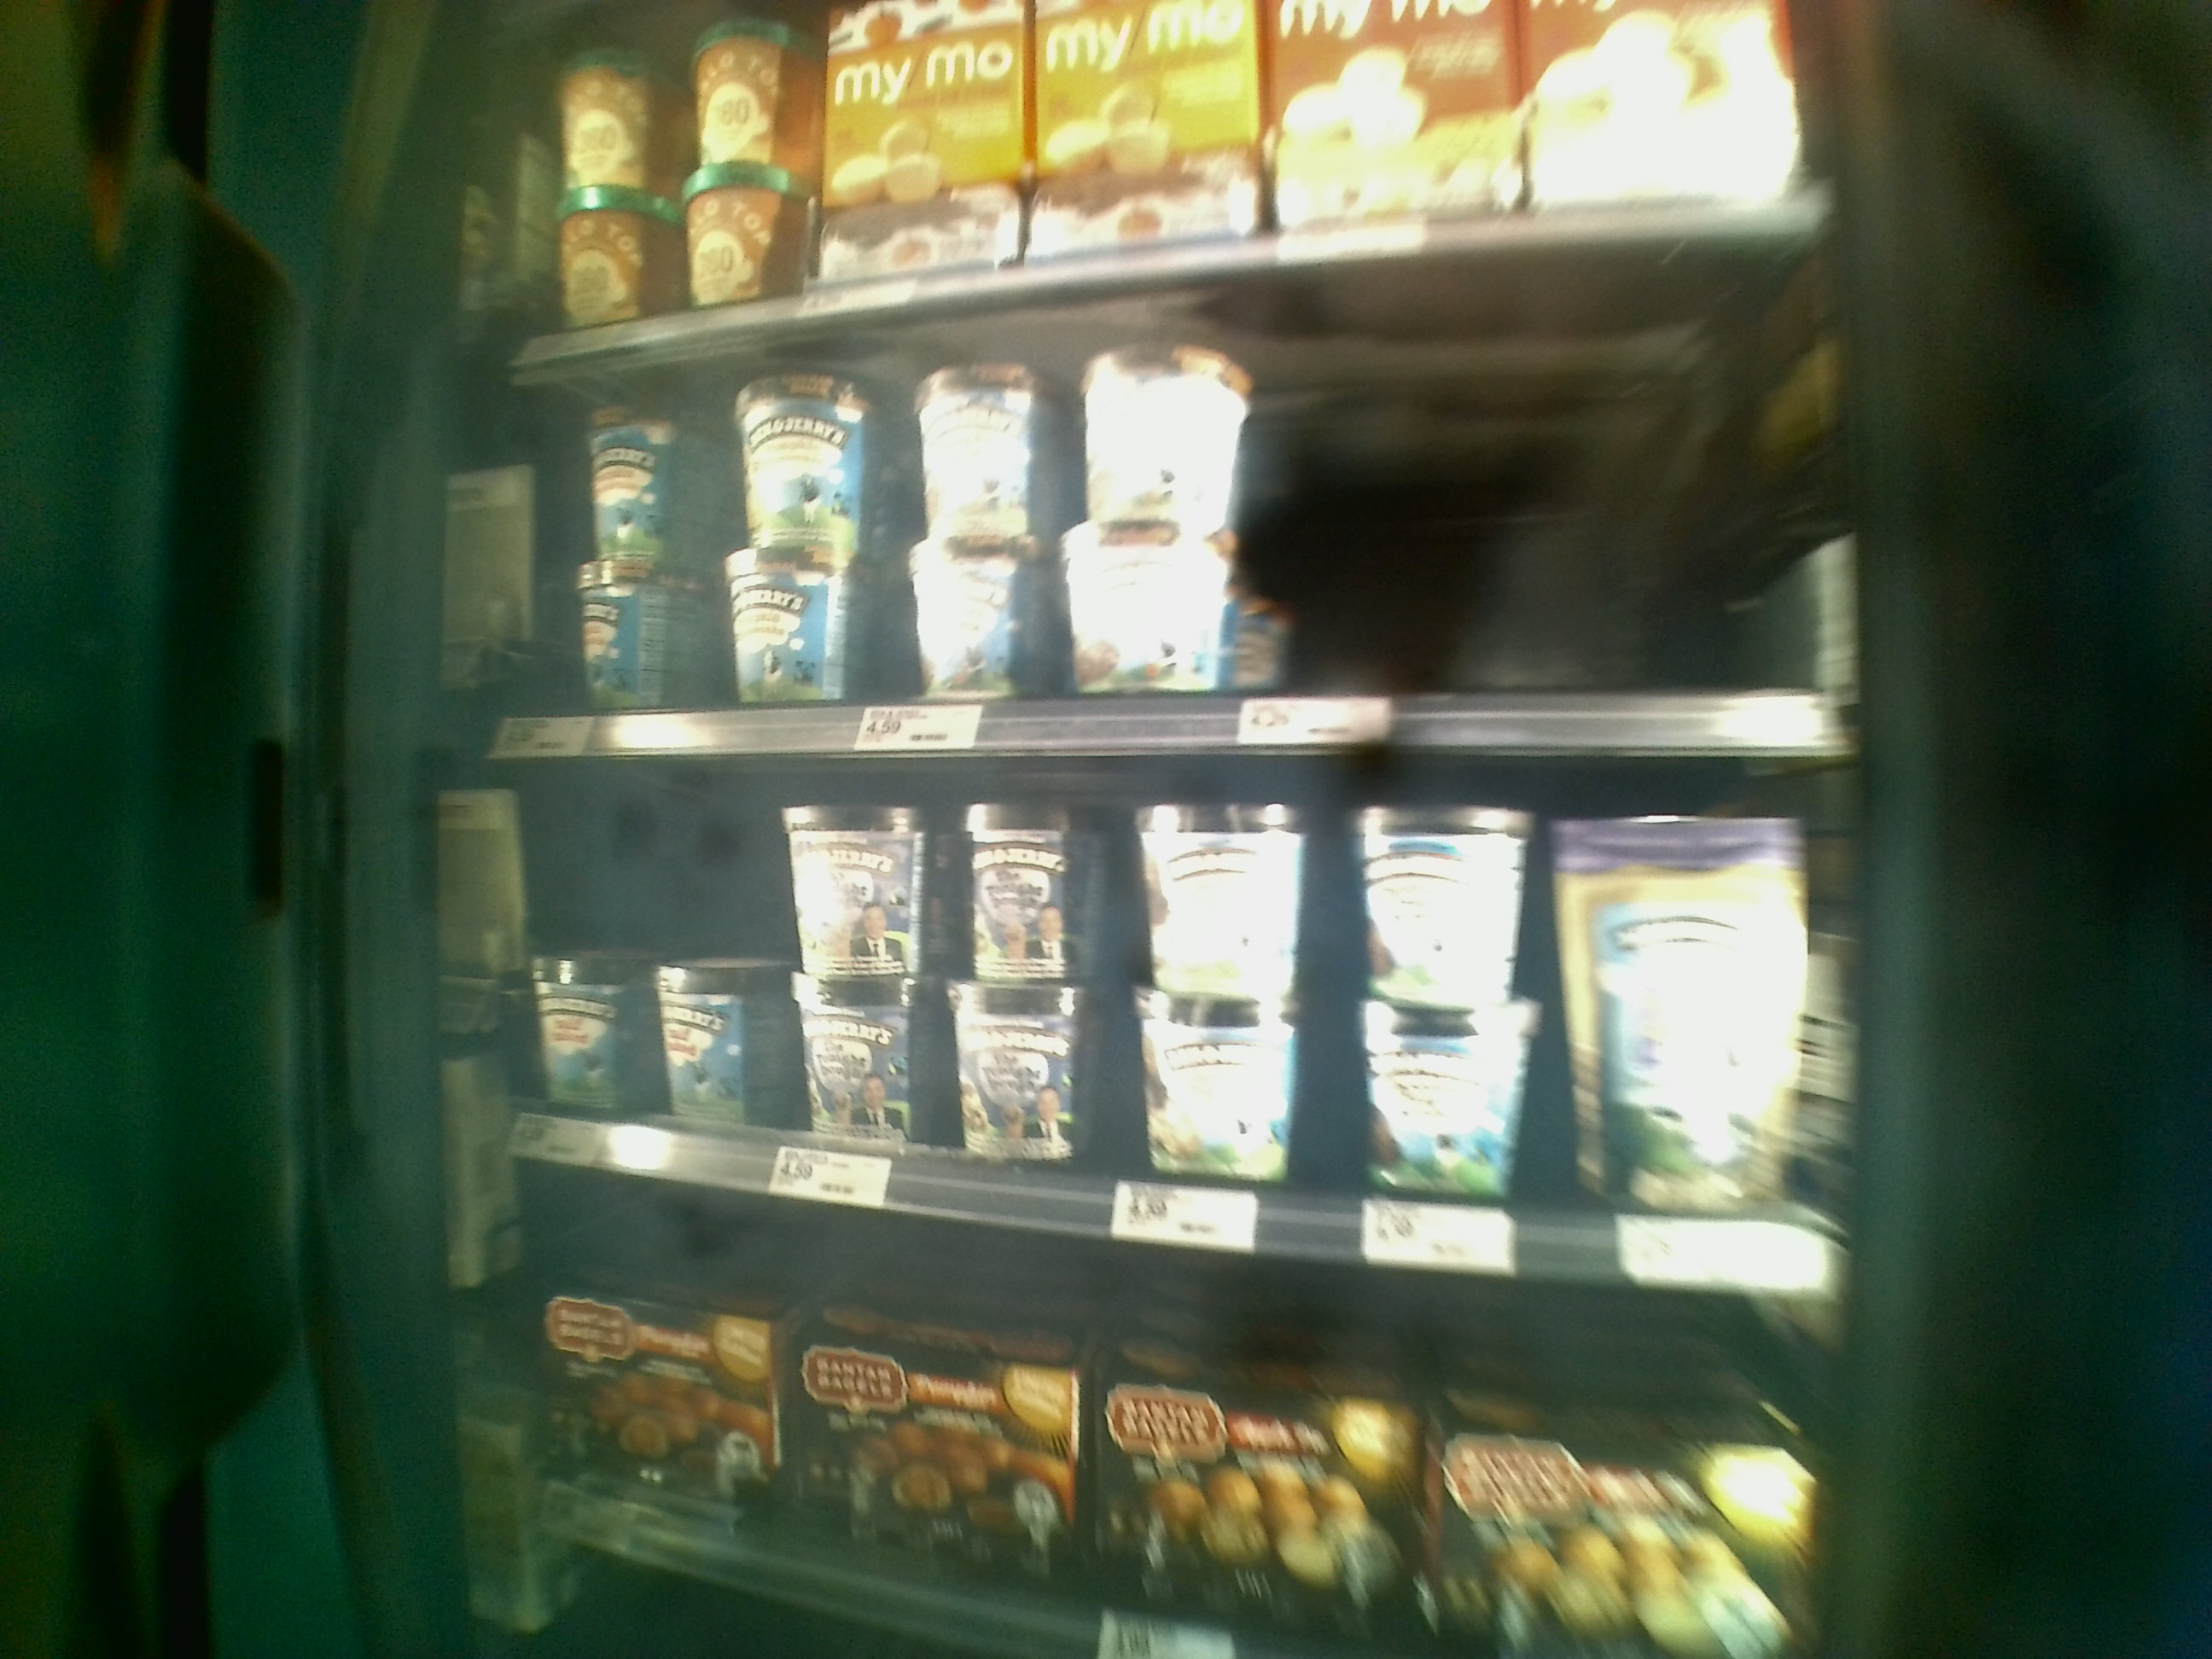shelf: (488, 727, 1810, 1272), (477, 329, 1822, 735)
